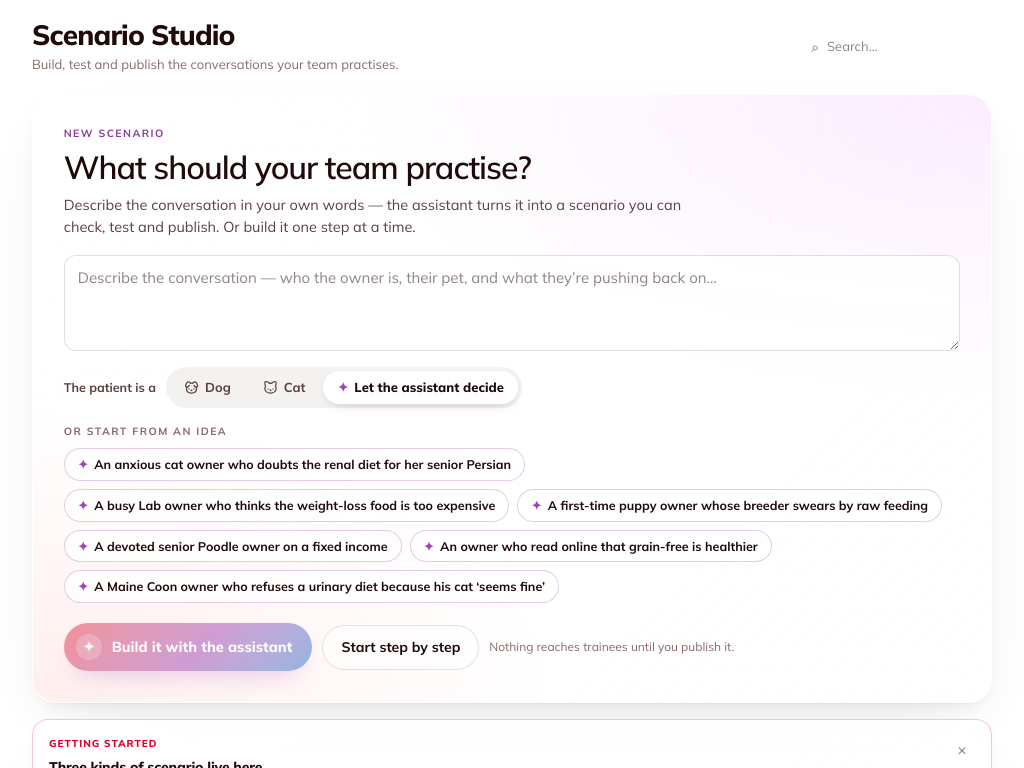
StudioHome composer › starts step by step without an assistant message
The image size is (1024, 768).
Click the button "Start step by step" at (401, 647), box [322, 625, 479, 670]
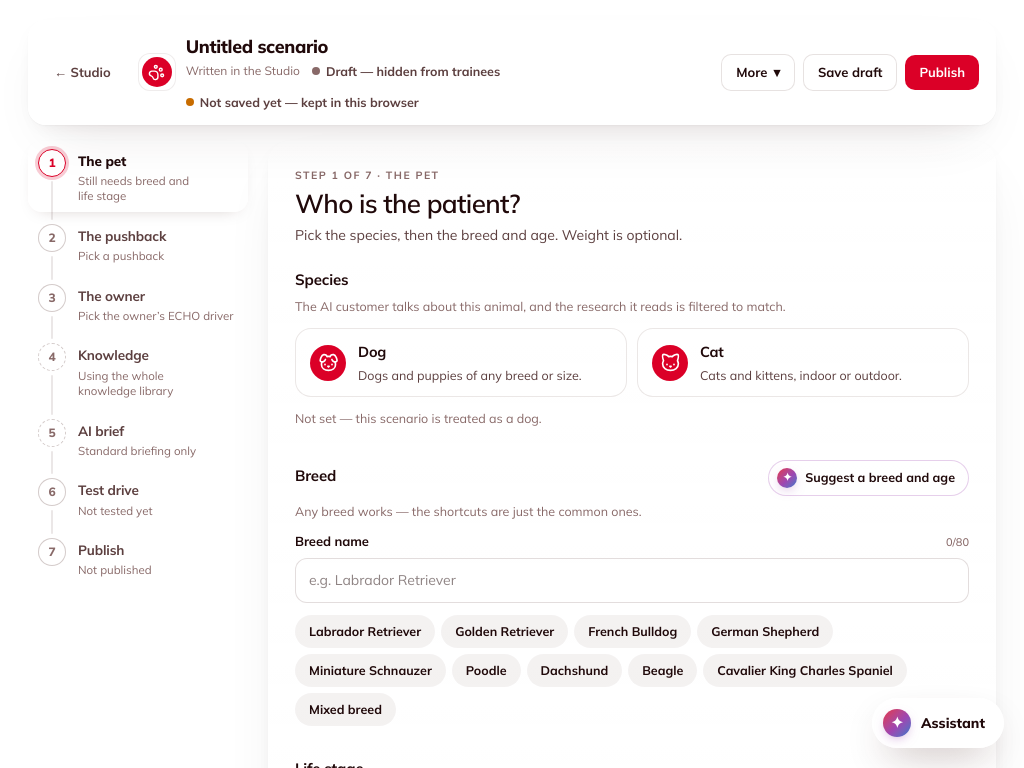
Result: the heading "Who is the patient?" is shown at [295, 187, 520, 220]
Result: the button with aria-label "Open the assistant" is shown at [872, 698, 1004, 748]
